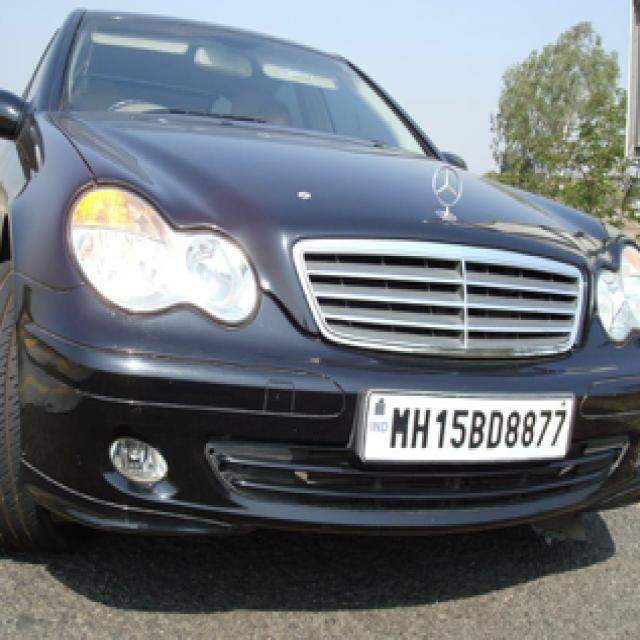license_plate: (368, 391, 576, 469)
